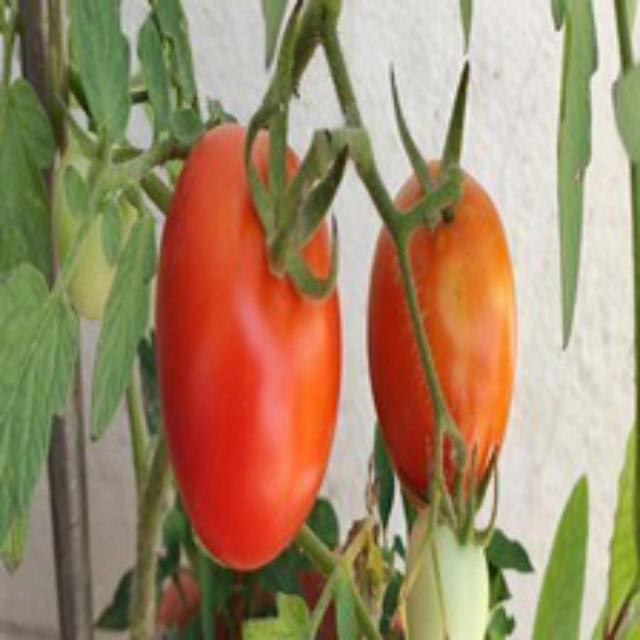tomato: (156, 114, 355, 586), (376, 154, 524, 510)
